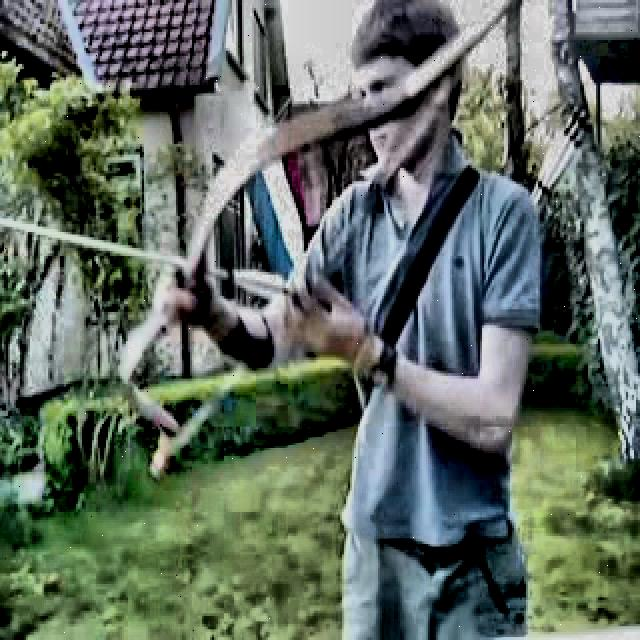P: (138, 0, 568, 640)
